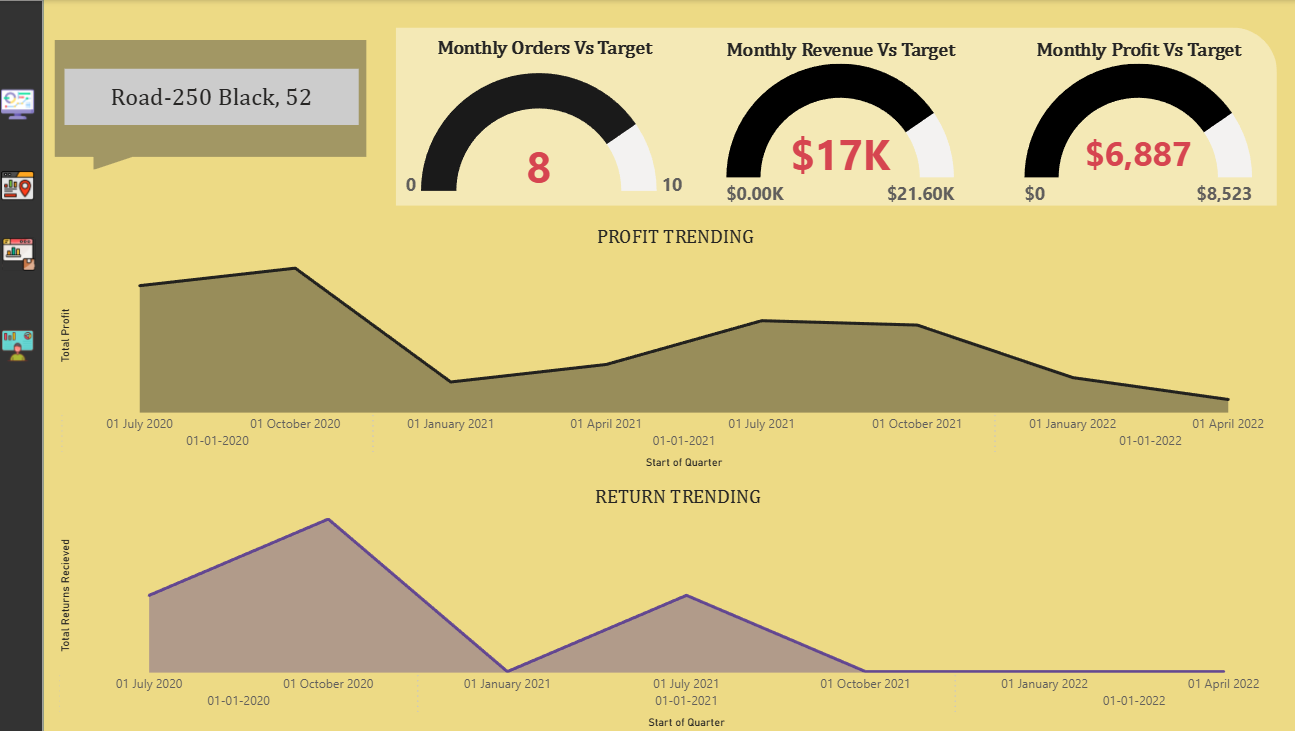

Layout of this report page (visuals, bound fields, positions):
{"tool":"powerbi","page":{"name":"Product","canvas":[1280,720],"ordinal":3},"visuals":[{"type":"areaChart","title":"PROFIT TRENDING","fields":{"Y":["Measure Table.Total Profit"],"Category":["Calendar Lookup.Date Hierarchy.Start of Year","Calendar Lookup.Date Hierarchy.Start of Quarter","Calendar Lookup.Date Hierarchy.Start of Month","Calendar Lookup.Date Hierarchy.Start of Week","Calendar Lookup.Date Hierarchy.Date"]},"box":[56.4,222.1,1218.4,242.9],"z":2000},{"type":"areaChart","title":"RETURN  TRENDING","fields":{"Category":["Calendar Lookup.Date Hierarchy.Start of Year","Calendar Lookup.Date Hierarchy.Start of Quarter","Calendar Lookup.Date Hierarchy.Start of Month","Calendar Lookup.Date Hierarchy.Start of Week","Calendar Lookup.Date Hierarchy.Date"],"Y":["Measure Table.Total Returns Recieved"]},"box":[56.4,477.3,1223.3,242.9],"z":3000},{"type":"shape","title":"Left Bar","box":[0,0,45.4,720.2],"z":4000},{"type":"actionButton","box":[0,82.2,99.4,40.5],"z":5000},{"type":"actionButton","box":[0,162,45.4,40.5],"z":6000},{"type":"actionButton","box":[1.2,229.4,45.4,40.5],"z":7000},{"type":"actionButton","box":[0,319,99.4,40.5],"z":8000},{"type":"shape","box":[56.2,38.8,306.2,127.5],"z":9000},{"type":"card","fields":{"Values":["Min(Product Lookup.ProductName)"]},"box":[66.2,67.5,288.8,55],"z":10000},{"type":"shape","box":[391.2,27.5,865,175],"z":11000},{"type":"gauge","title":"Monthly Profit Vs Target","fields":{"MaxValue":["Measure Table.Profit Target"],"Y":["Measure Table.Total Profit"]},"box":[973.8,38.8,292.5,172.5],"z":12000},{"type":"gauge","title":"Monthly Orders Vs Target","fields":{"Y":["Measure Table.Total Orders Recieved"],"MaxValue":["Measure Table.Order Target"]},"box":[391.2,36.2,291.2,172.5],"z":12500},{"type":"gauge","title":"Monthly Revenue Vs Target","fields":{"Y":["Measure Table.Total Revenue"],"MaxValue":["Measure Table.Target Revenue"]},"box":[682.5,38.8,291.2,172.5],"z":13000}]}

Visuals, with their boxes on the page's 1280x720 design canvas (x1, y1, x2, y2). These are canvas units, not pixel positions in the 1295x731 screenshot, which may show the page scaled, cropped or inside an application window:
"PROFIT TRENDING" areaChart: bbox=[56, 222, 1275, 465]
"RETURN  TRENDING" areaChart: bbox=[56, 477, 1280, 720]
"Left Bar" shape: bbox=[0, 0, 45, 720]
actionButton: bbox=[0, 82, 99, 123]
actionButton: bbox=[0, 162, 45, 202]
actionButton: bbox=[1, 229, 47, 270]
actionButton: bbox=[0, 319, 99, 360]
shape: bbox=[56, 39, 362, 166]
card - Min(Product Lookup.ProductName): bbox=[66, 68, 355, 122]
shape: bbox=[391, 28, 1256, 202]
"Monthly Profit Vs Target" gauge: bbox=[974, 39, 1266, 211]
"Monthly Orders Vs Target" gauge: bbox=[391, 36, 682, 209]
"Monthly Revenue Vs Target" gauge: bbox=[682, 39, 974, 211]
